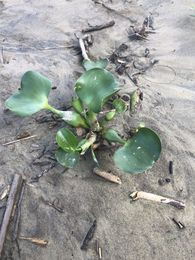water_hyacinth: (3, 55, 166, 182)
